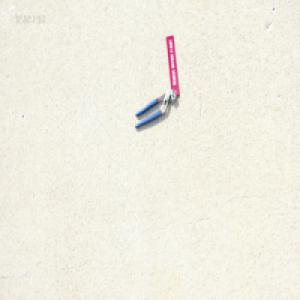Label: (166, 34, 179, 96)
Pliers: (134, 88, 176, 129)
